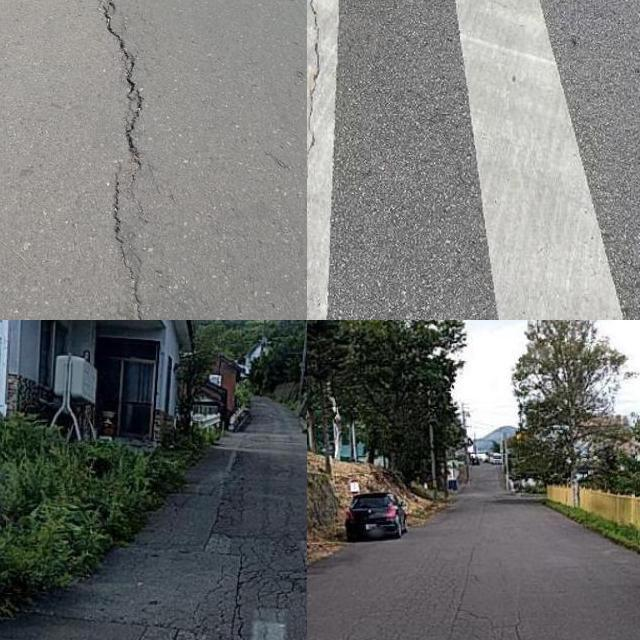Memanjang: (88, 0, 169, 320), (307, 0, 341, 320)
Retak Buaya: (210, 474, 307, 640)
